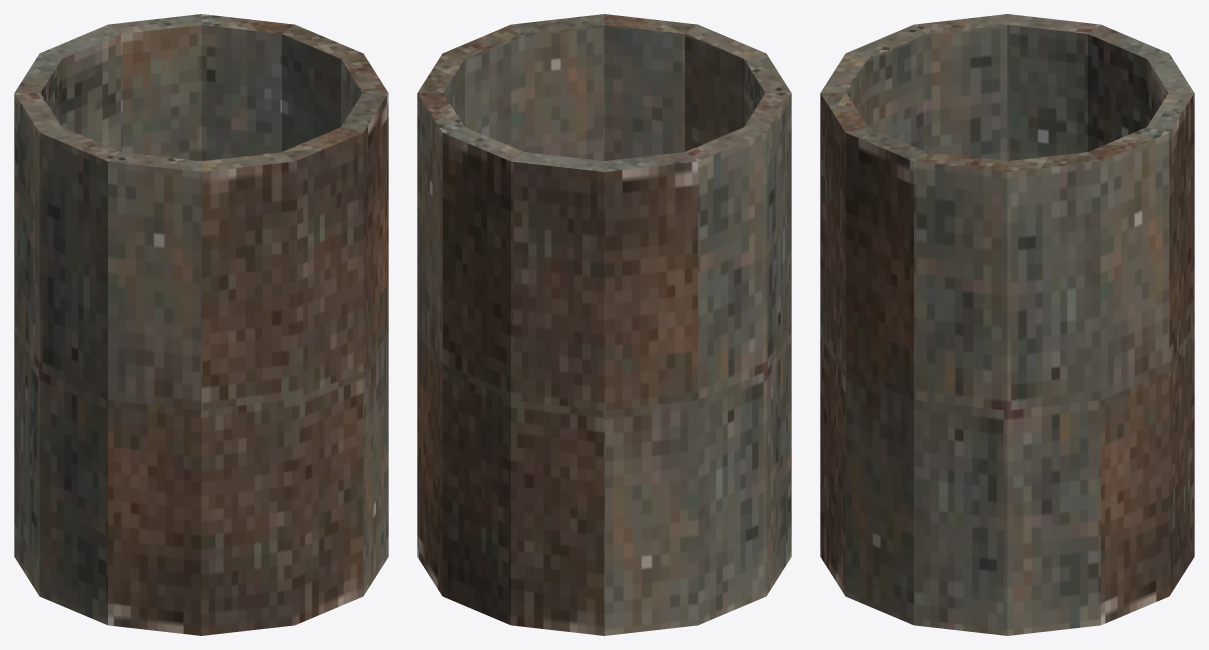
Rendered from Drum_Open_240919.fbx.
3 renders of one model, left to right at view 1: azimuth 30°, elevation 25°; view 2: azimuth 150°, elevation 25°; view 3: azimuth 270°, elevation 25°, orthographic.
Visible parts, largest first — view 1: Drum_Open; view 2: Drum_Open; view 3: Drum_Open.
Part boxes in pixels (bbox=[...]): Drum_Open: bbox=[14, 14, 388, 635]; Drum_Open: bbox=[417, 14, 791, 635]; Drum_Open: bbox=[820, 14, 1194, 635].
Bounding box in the file's own units: 200 × 274 × 200.
